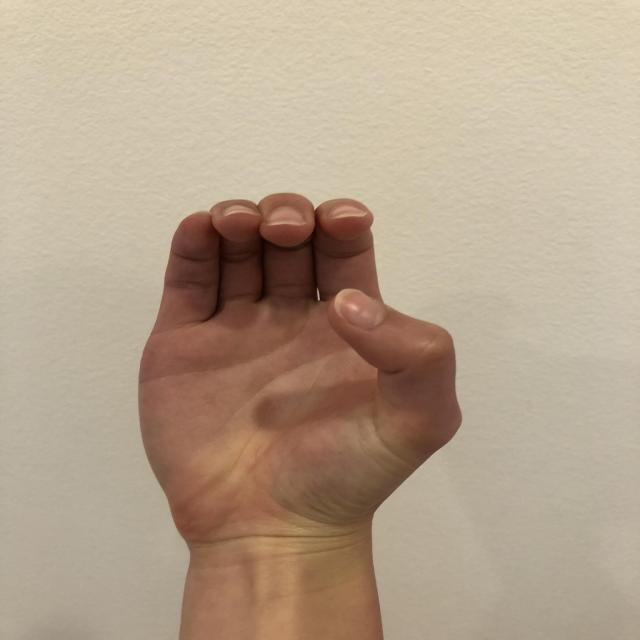C: (126, 185, 477, 555)
